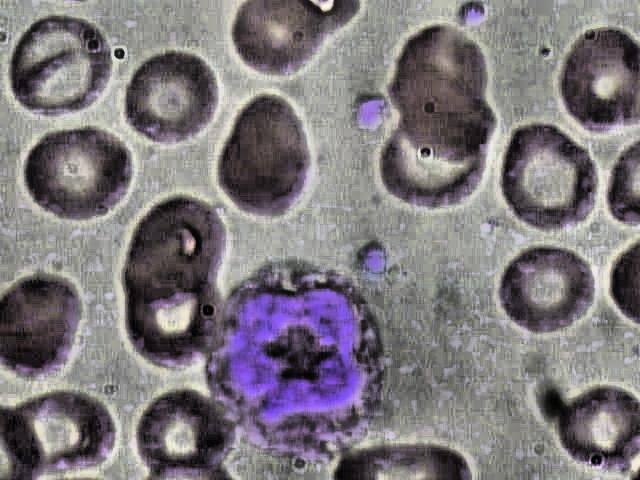Platelets: (349, 234, 400, 286), (355, 95, 394, 130), (454, 0, 494, 29)
RBC: (386, 22, 494, 162), (210, 92, 321, 225), (117, 192, 226, 310), (494, 119, 602, 235), (1, 270, 108, 386), (543, 13, 640, 136), (20, 125, 137, 225), (116, 50, 223, 151), (5, 18, 112, 119), (496, 240, 603, 341), (131, 385, 241, 479), (551, 379, 640, 479)
WBC: (204, 254, 391, 468)
